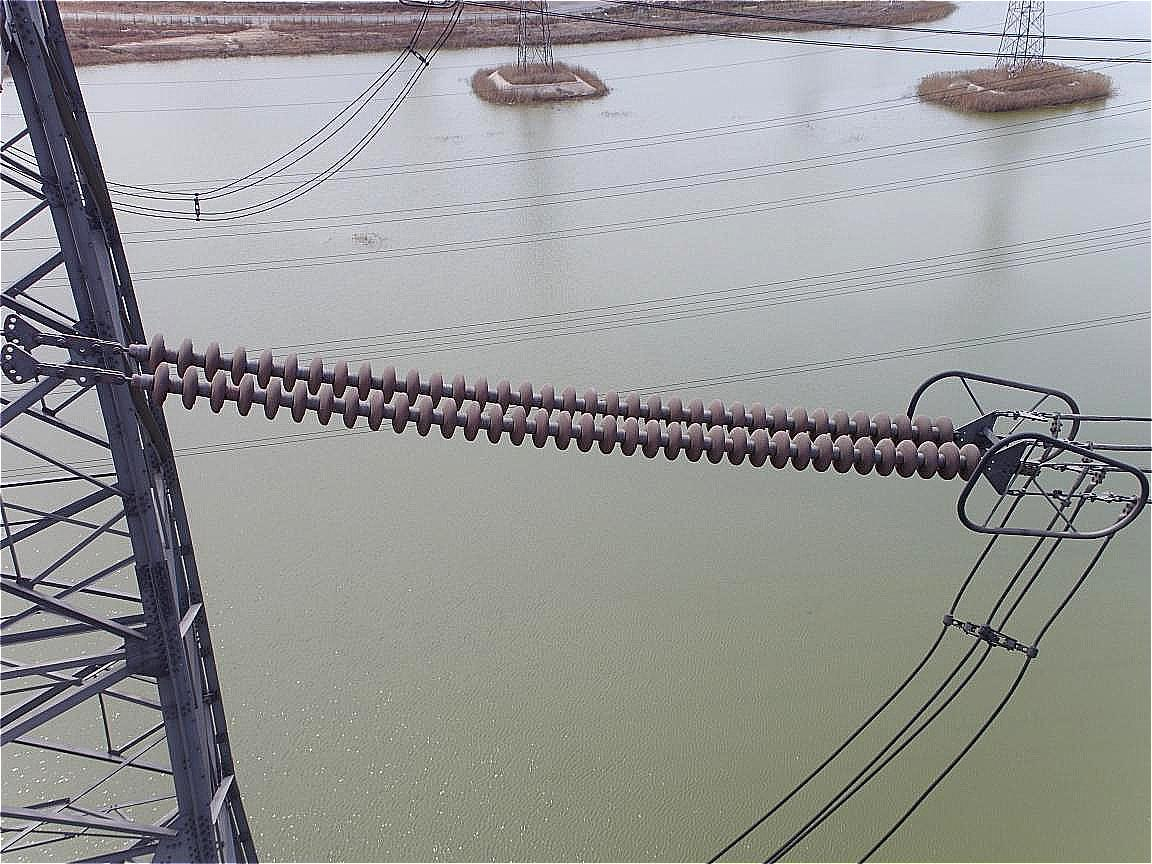insultor1: (110, 320, 1026, 488)
